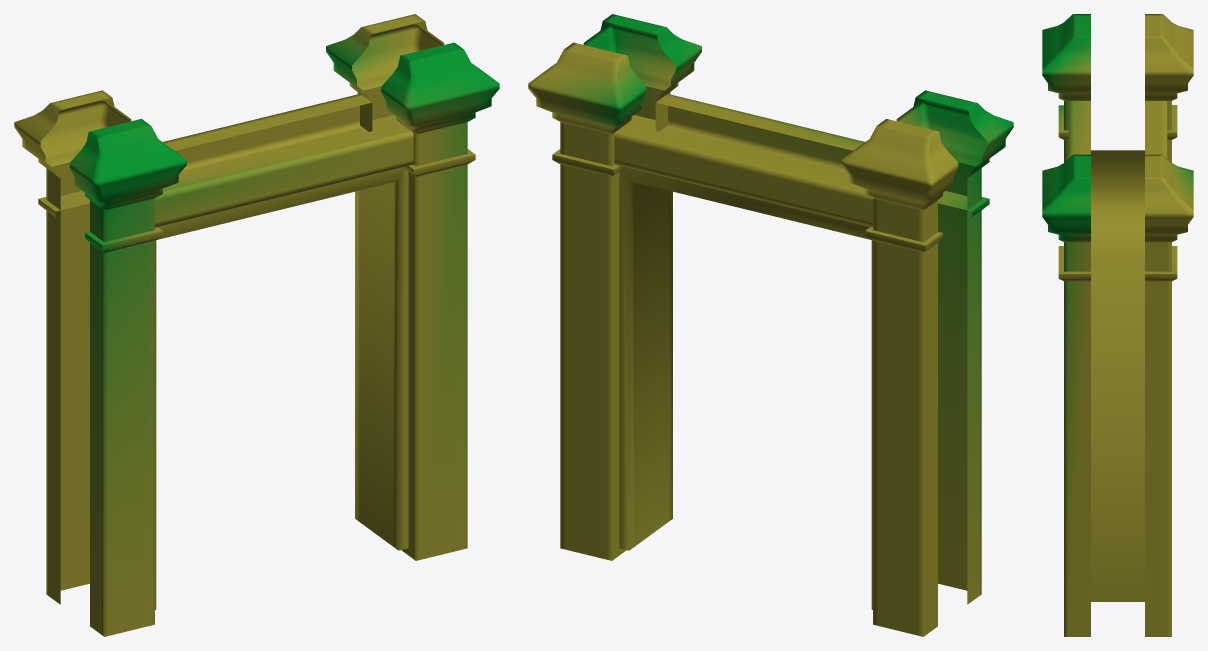
The model's file is SM_ExttoIntBThresholdC.fbx.
3 views of the same model, side by side, from view 1: azimuth 30°, elevation 25°; view 2: azimuth 150°, elevation 25°; view 3: azimuth 270°, elevation 25° (orthographic). The views are drawn at different scales.
Visible parts, largest first — view 1: SM_ExttoIntBThresholdC; view 2: SM_ExttoIntBThresholdC; view 3: SM_ExttoIntBThresholdC.
Boxes of the visible parts, x1,y1,x2,y2 form: SM_ExttoIntBThresholdC: (14,14,499,636); SM_ExttoIntBThresholdC: (528,14,1013,636); SM_ExttoIntBThresholdC: (1042,14,1193,636).
Bounding box in the file's own units: 400 × 469 × 140.
